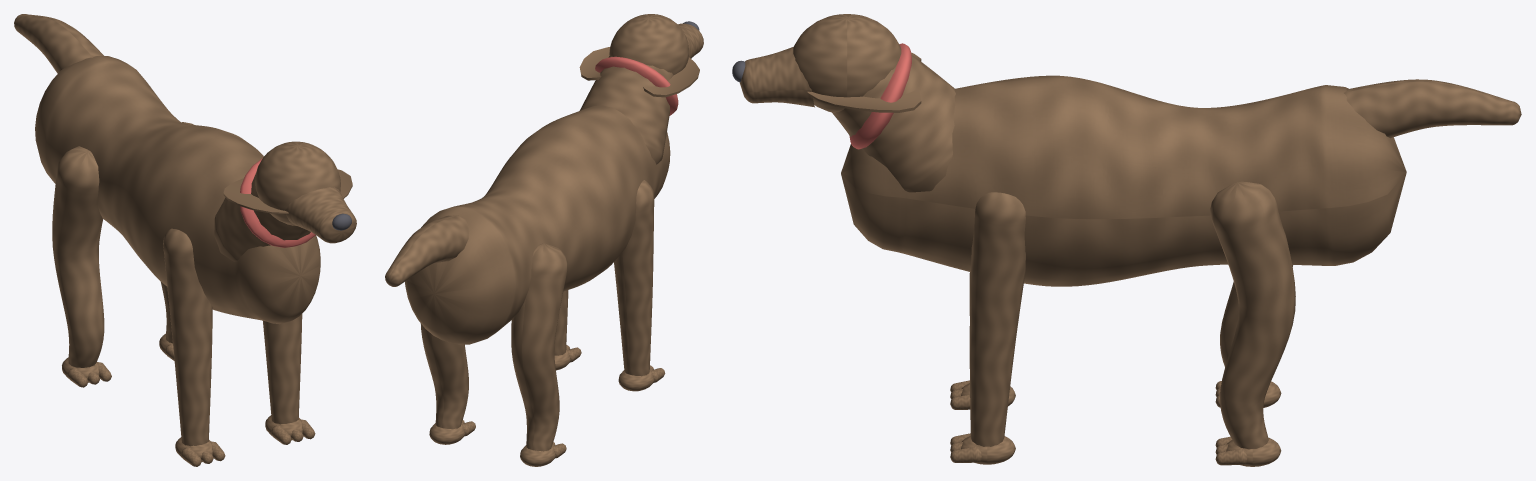
The model's file is pets-and-companions-hd-labrador-retriever-chocolate-e4df69d9__28141.glb.
3 views of the same model, side by side, from view 1: azimuth 30°, elevation 25°; view 2: azimuth 150°, elevation 25°; view 3: azimuth 270°, elevation 25° (orthographic). The views are drawn at different scales.
Parts seen in each view (by area): view 1: labrador-retriever-chocolate; view 2: labrador-retriever-chocolate; view 3: labrador-retriever-chocolate.
Boxes of the visible parts, left/top/right/bottom form: labrador-retriever-chocolate: left=14, top=14, right=356, bottom=466; labrador-retriever-chocolate: left=385, top=14, right=703, bottom=466; labrador-retriever-chocolate: left=732, top=14, right=1521, bottom=466.
Size of the model in its own units: 0.3028 by 0.6849 by 1.18.
3 materials, 1 textured.
